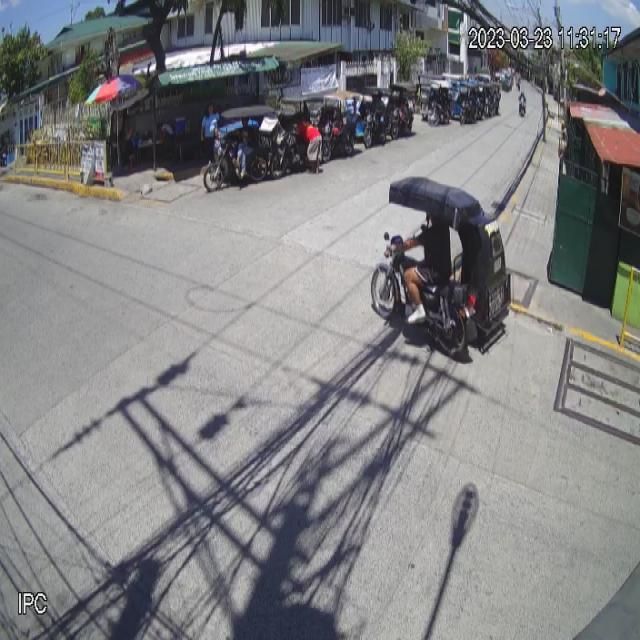Tricycle: (370, 174, 512, 359)
